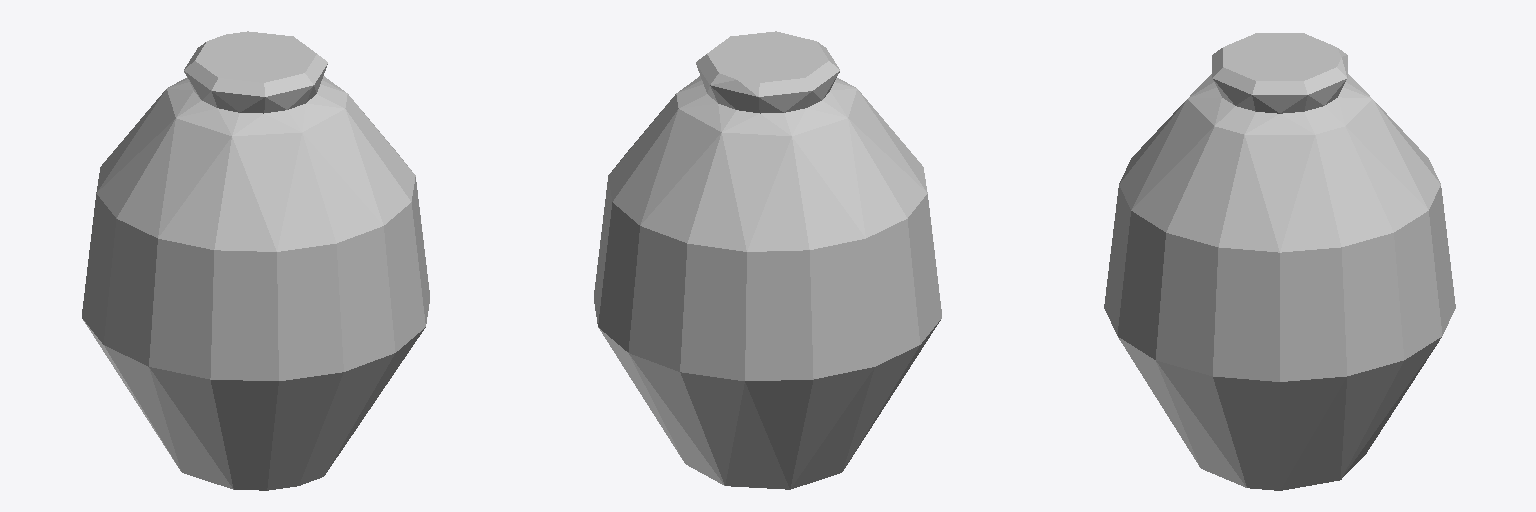
The model's file is waza_3.obj.
The picture shows the model from 3 angles: view 1: azimuth 30°, elevation 25°; view 2: azimuth 150°, elevation 25°; view 3: azimuth 270°, elevation 25°; orthographic projection.
Visible parts, largest first — view 1: Vert.006; view 2: Vert.006; view 3: Vert.006.
Boxes of the visible parts, x1=… form: Vert.006: x1=82, y1=31, x2=429, y2=490; Vert.006: x1=594, y1=31, x2=941, y2=489; Vert.006: x1=1104, y1=33, x2=1455, y2=490.
Size of the model in its own units: 0.7479 by 0.9324 by 0.7479.